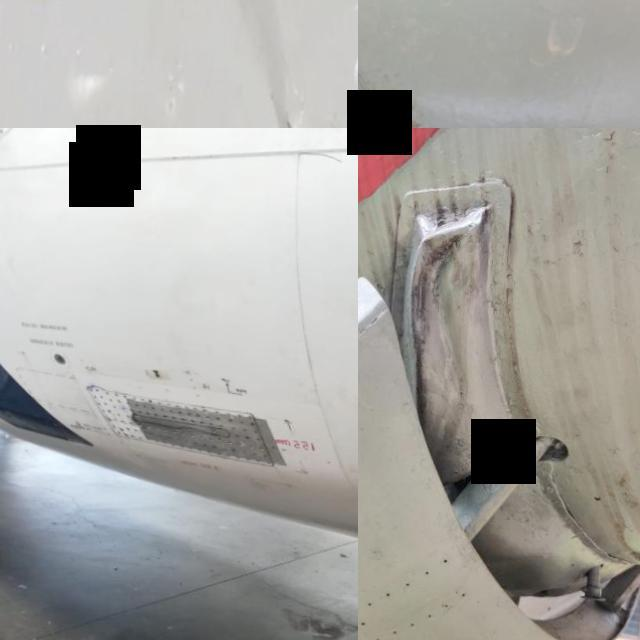Crack: (358, 78, 462, 128), (295, 141, 352, 163)
Dent: (392, 188, 514, 433), (235, 0, 315, 128)
